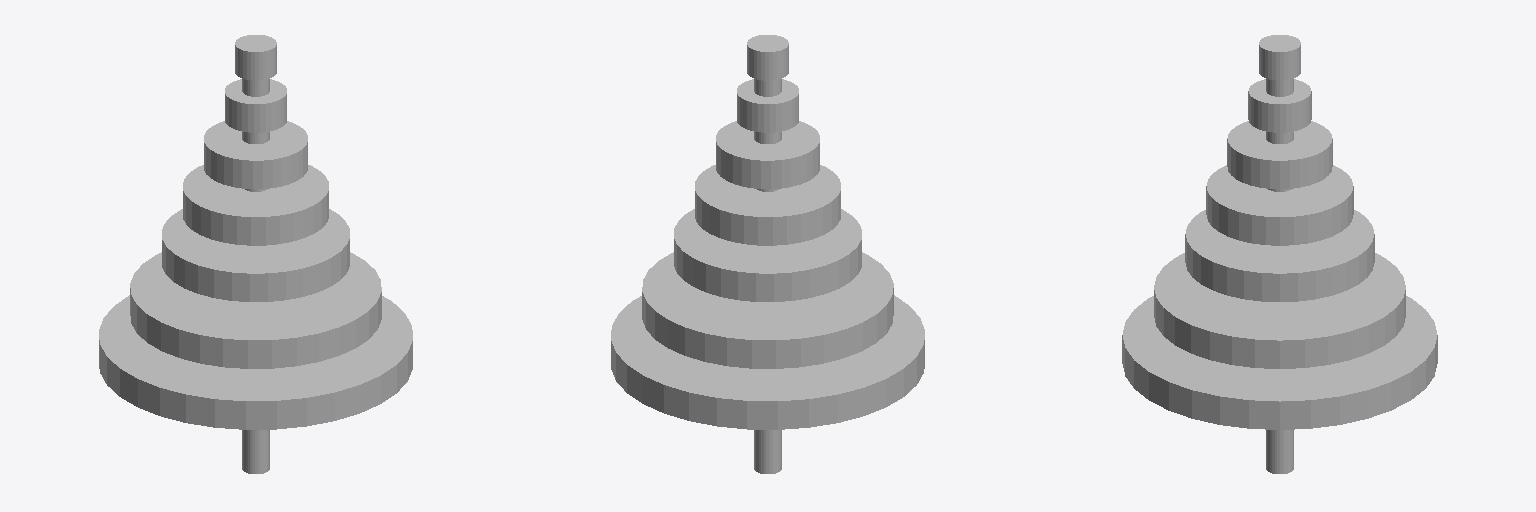
The model's file is treewhole.obj.
3 renders of one model, left to right at view 1: azimuth 30°, elevation 25°; view 2: azimuth 150°, elevation 25°; view 3: azimuth 270°, elevation 25°, orthographic.
Visible parts, largest first — view 1: Cylinder.001, Cylinder.002, Cylinder.003, Cylinder.004, Cylinder.005_Cylinder.004, Cylinder.006_Cylinder.005, Cylinder, Cylinder.007_Cylinder.006; view 2: Cylinder.001, Cylinder.002, Cylinder.003, Cylinder.004, Cylinder.005_Cylinder.004, Cylinder.006_Cylinder.005, Cylinder, Cylinder.007_Cylinder.006; view 3: Cylinder.001, Cylinder.002, Cylinder.003, Cylinder.004, Cylinder.005_Cylinder.004, Cylinder.006_Cylinder.005, Cylinder, Cylinder.007_Cylinder.006.
Part boxes in pixels (x1,y1,x2,y2): Cylinder.001: (99, 295, 412, 429); Cylinder.002: (130, 252, 381, 368); Cylinder.003: (162, 209, 349, 301); Cylinder.004: (183, 165, 328, 245); Cylinder.005_Cylinder.004: (204, 121, 307, 188); Cylinder.006_Cylinder.005: (225, 79, 286, 132); Cylinder: (242, 79, 269, 473); Cylinder.007_Cylinder.006: (235, 35, 276, 80); Cylinder.001: (611, 295, 924, 429); Cylinder.002: (642, 252, 893, 368); Cylinder.003: (674, 209, 861, 301); Cylinder.004: (695, 165, 840, 245); Cylinder.005_Cylinder.004: (716, 121, 819, 188); Cylinder.006_Cylinder.005: (737, 79, 798, 132); Cylinder: (754, 79, 781, 473); Cylinder.007_Cylinder.006: (747, 35, 788, 80); Cylinder.001: (1122, 296, 1437, 429); Cylinder.002: (1154, 253, 1405, 368); Cylinder.003: (1185, 210, 1374, 301); Cylinder.004: (1206, 165, 1353, 245); Cylinder.005_Cylinder.004: (1227, 121, 1332, 188); Cylinder.006_Cylinder.005: (1248, 79, 1311, 132); Cylinder: (1266, 79, 1293, 473); Cylinder.007_Cylinder.006: (1259, 35, 1300, 80).
Bounding box in the file's own units: 6.96 × 10.36 × 6.96.